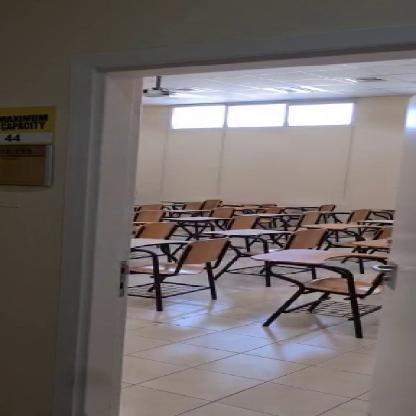open: (43, 36, 396, 410)
